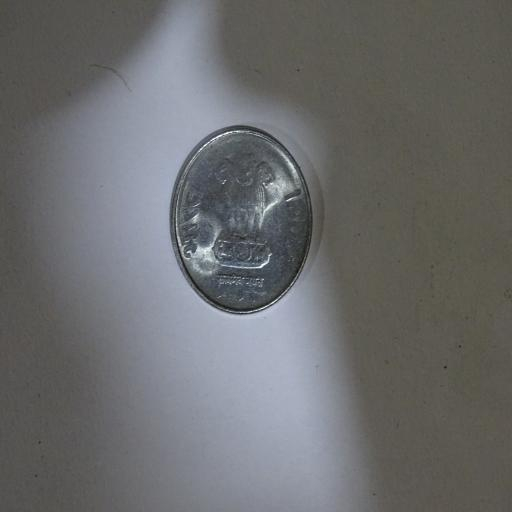rupee1: (166, 125, 316, 318)
